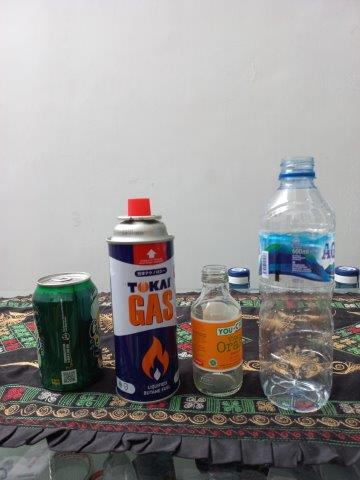botolkaca: (191, 263, 243, 395)
botolplastik: (261, 159, 334, 412)
kaleng: (106, 198, 180, 400), (33, 273, 99, 392)
